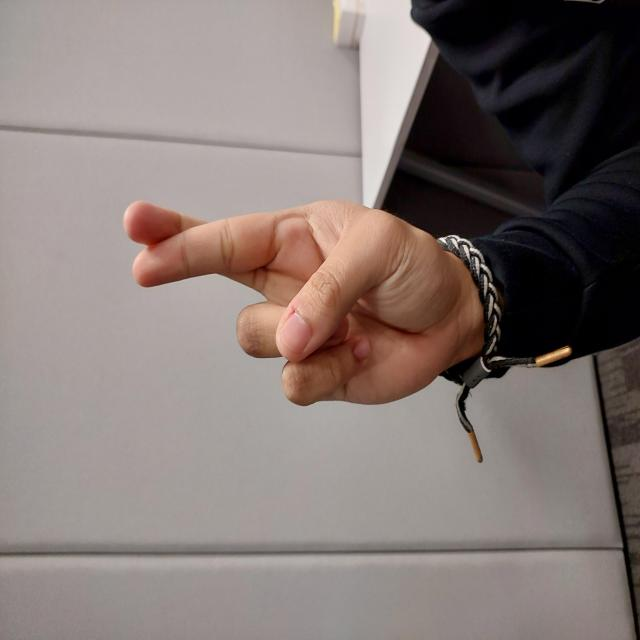R: (232, 120, 441, 457)
